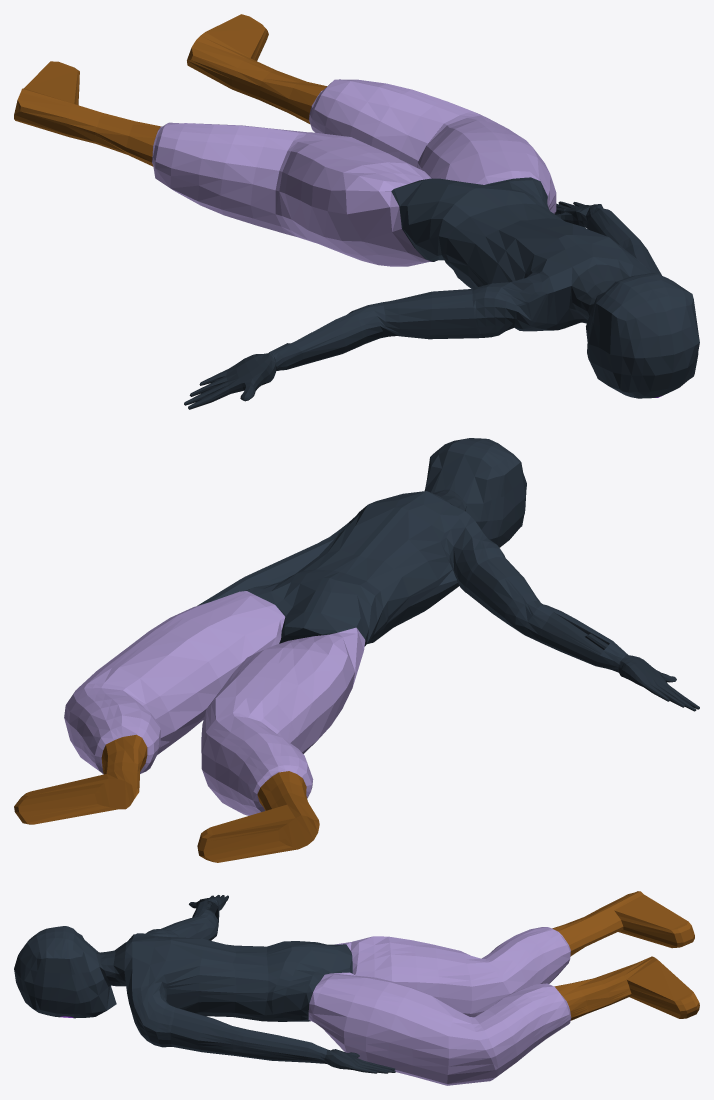
Rendered from Oracle_Die_000014.obj.
3 views of the same model, one above another, from view 1: azimuth 30°, elevation 25°; view 2: azimuth 150°, elevation 25°; view 3: azimuth 270°, elevation 25° (orthographic). The views are drawn at different scales.
Visible parts, largest first — view 1: Cube; view 2: Cube; view 3: Cube.
Boxes of the visible parts, box(x1,y1,x2,y2) form: Cube: box(14, 14, 699, 409); Cube: box(14, 438, 699, 862); Cube: box(14, 891, 699, 1085).
Bounding box in the file's own units: 2.37 × 0.7441 × 3.89.
